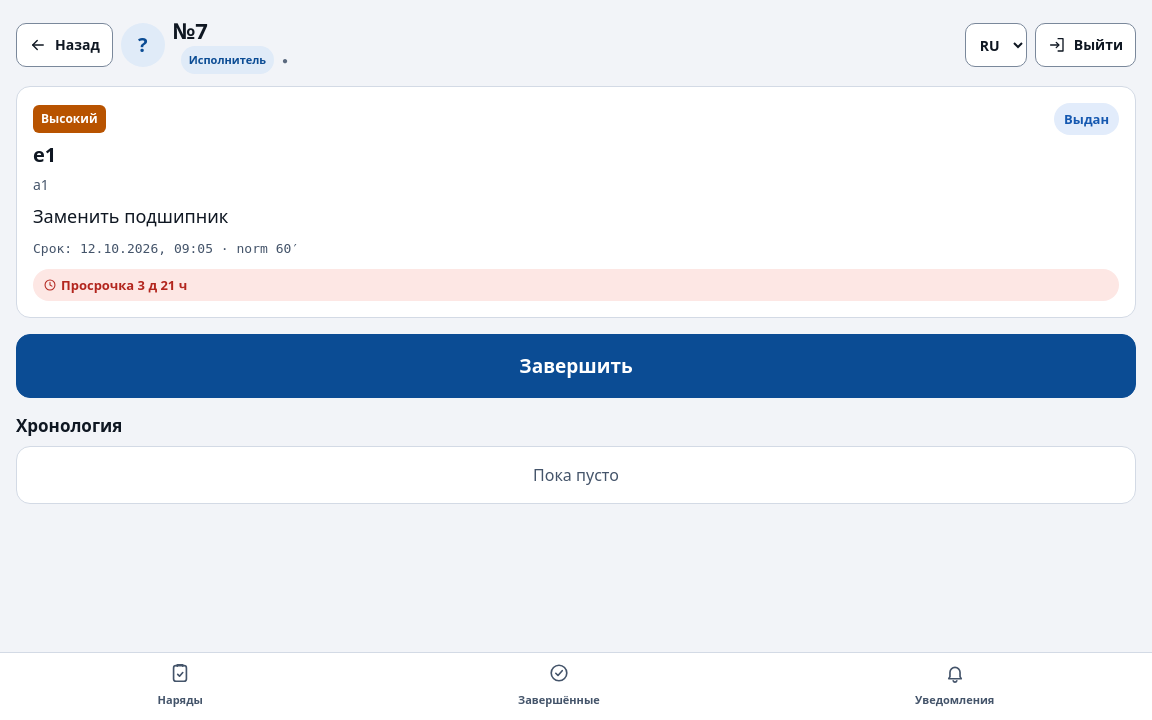
Scenario: WorkerOrder photo pickers › renders a single system picker without capture split
This screenshot has width=1152, height=720.
Click the button "Завершить": coordinates (576, 366) [16,334,1136,398]
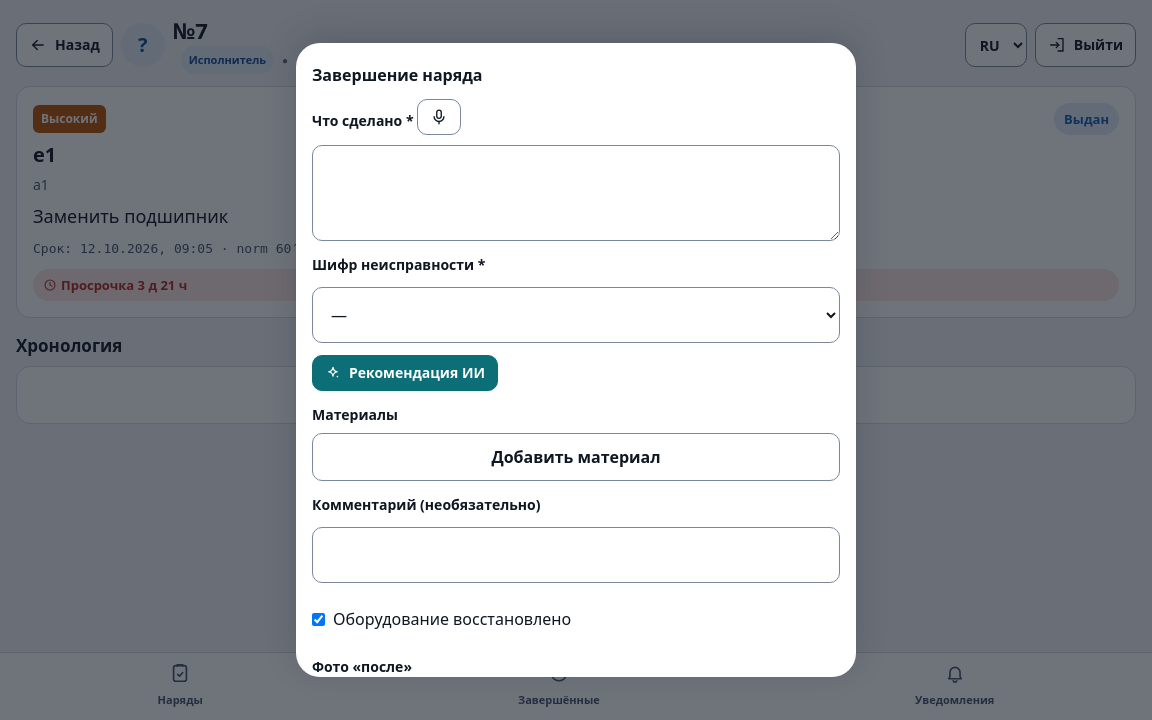
Check: the dialog is shown, box [296,43,856,677]
